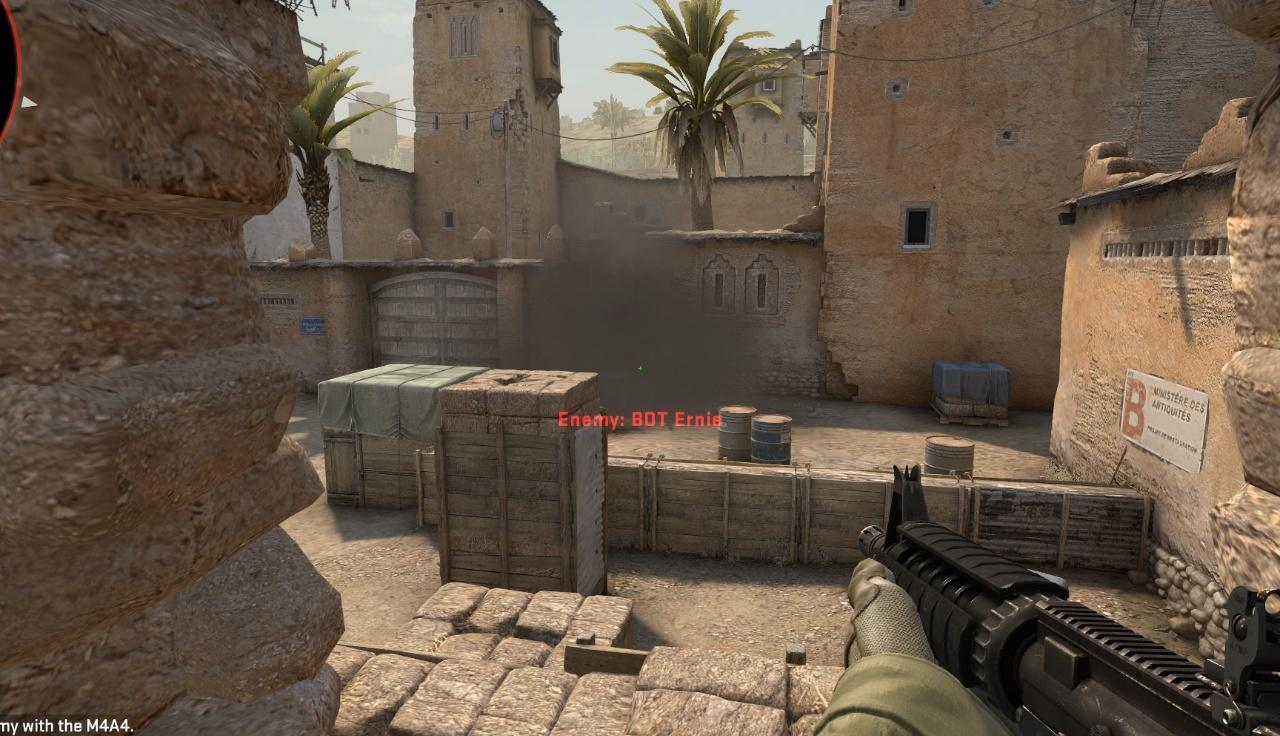rifle: (812, 463, 1280, 736)
